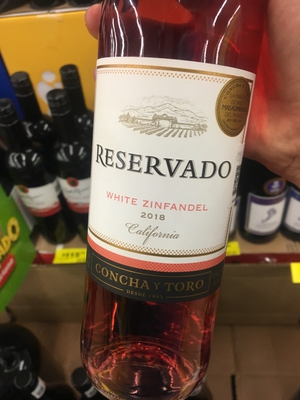reservado white zinfandel: (84, 1, 268, 395)
